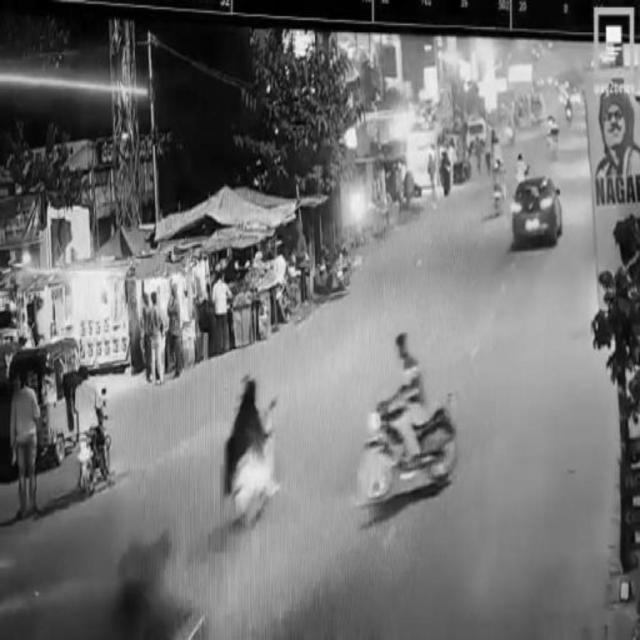person: (13, 363, 43, 523), (149, 285, 163, 386)
vehicle: (358, 331, 460, 507), (12, 333, 96, 467), (221, 377, 282, 534), (73, 355, 117, 499), (514, 171, 565, 245)
